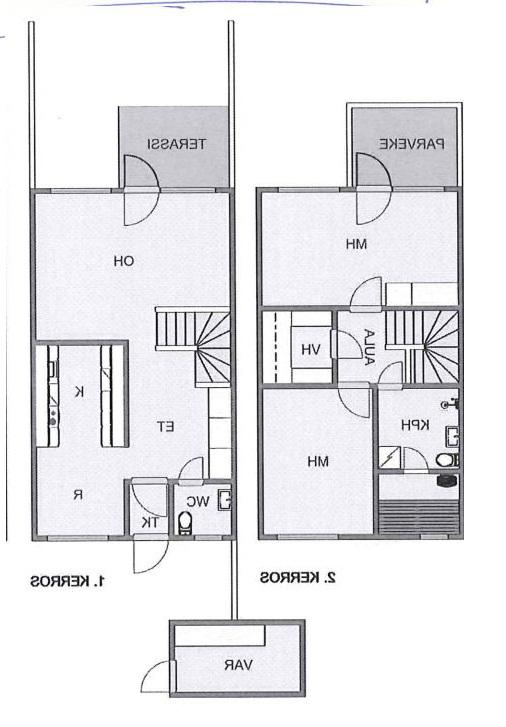bathroom: (379, 387, 458, 470), (169, 483, 232, 536)
door: (130, 473, 170, 519), (129, 530, 168, 577), (121, 188, 163, 230), (121, 152, 162, 194), (352, 188, 395, 226), (355, 151, 394, 191), (335, 381, 372, 422), (137, 659, 179, 695), (345, 275, 385, 309), (331, 327, 364, 365), (175, 454, 207, 487), (377, 358, 405, 390), (402, 442, 428, 476)
perimeter: (253, 184, 466, 543), (27, 185, 235, 542), (167, 619, 307, 701)
stairs: (411, 312, 460, 384), (155, 310, 229, 348), (383, 311, 459, 345), (193, 313, 228, 385)
window: (46, 182, 119, 198), (42, 531, 114, 546), (270, 181, 346, 194), (271, 530, 348, 541), (416, 530, 453, 544)
